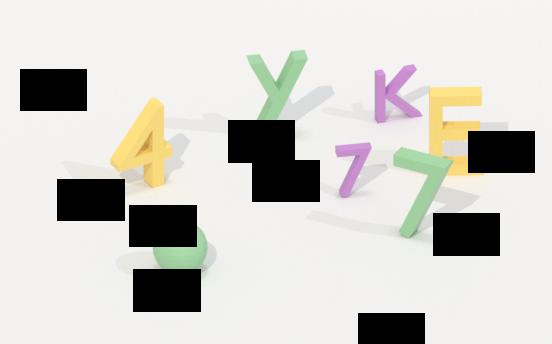4: (108, 94, 175, 190)
7: (392, 143, 456, 241), (334, 139, 375, 202)
E-hoa: (425, 82, 491, 179)
Y: (242, 49, 312, 149)
cau: (151, 218, 211, 280)
k: (371, 62, 423, 127)
